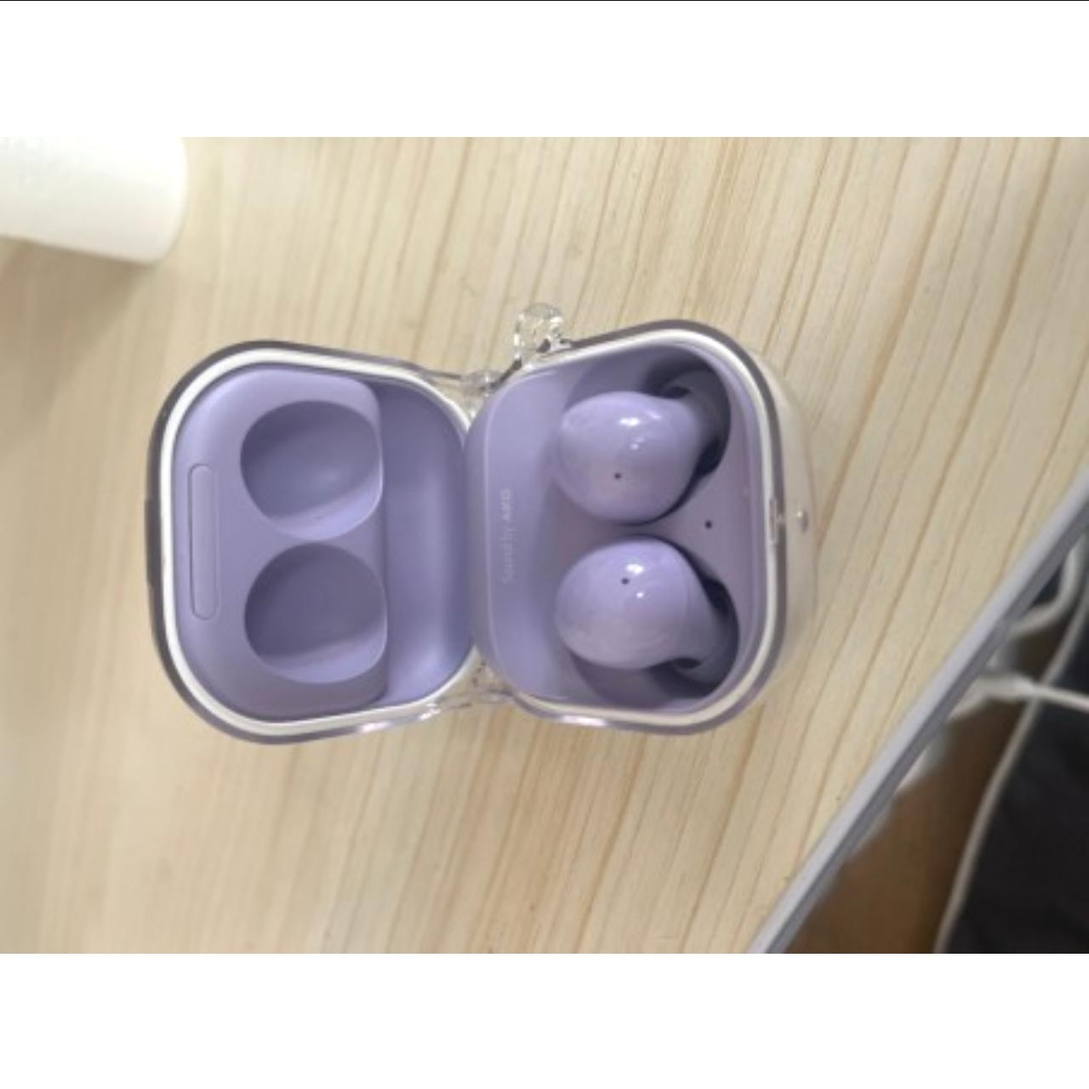Buds: (138, 312, 825, 748)
Buds_Units: (539, 352, 741, 530), (543, 528, 749, 698)
